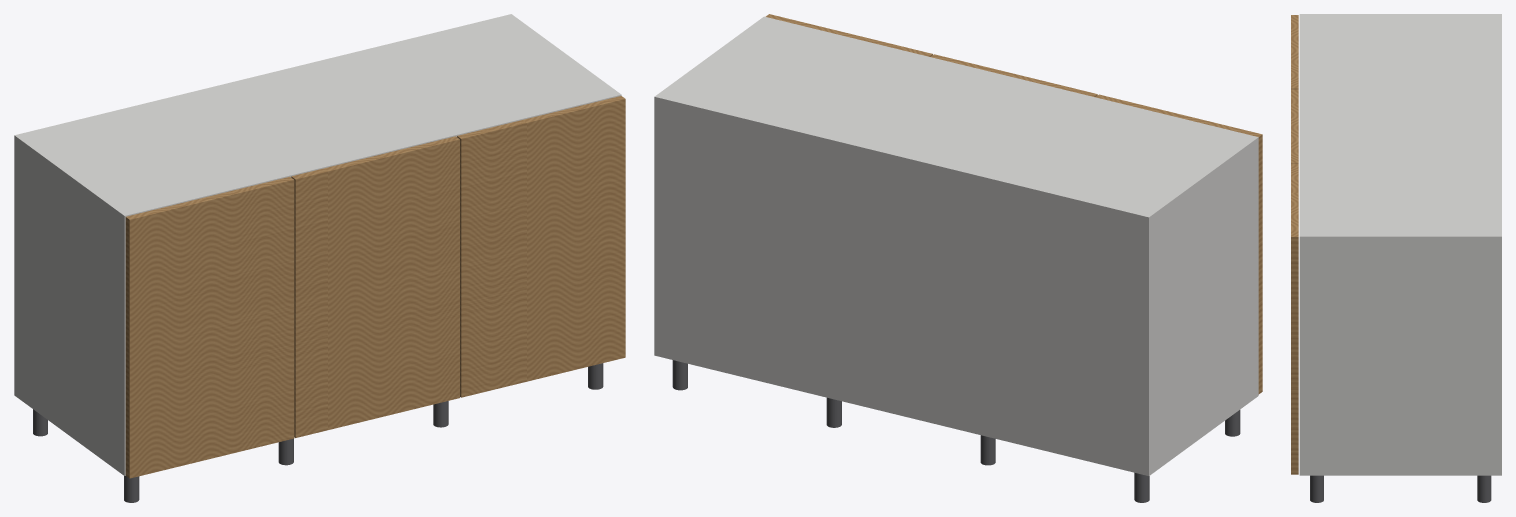
Rendered from w1500_inset_pair_closed.glb.
The picture shows the model from 3 angles, left to right: view 1: azimuth 30°, elevation 25°; view 2: azimuth 150°, elevation 25°; view 3: azimuth 270°, elevation 25°; orthographic projection. The views are drawn at different scales.
Visible parts, largest first — view 1: oak, white, leg; view 2: white, oak, leg; view 3: white, oak, leg.
Part boxes in pixels (left/top/right/bottom): oak: left=125, top=96, right=625, bottom=478; white: left=14, top=14, right=621, bottom=475; leg: left=33, top=363, right=603, bottom=502; white: left=654, top=16, right=1258, bottom=475; oak: left=765, top=14, right=1262, bottom=394; leg: left=672, top=360, right=1240, bottom=502; white: left=1299, top=14, right=1501, bottom=475; oak: left=1291, top=15, right=1298, bottom=474; leg: left=1310, top=475, right=1491, bottom=502.
Size of the model in its own units: 1.5 by 0.85 by 0.6.
Materials: 3 (1 with a texture image).
